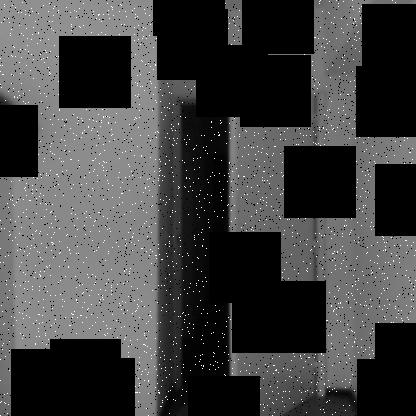Porte: (170, 69, 329, 415)
